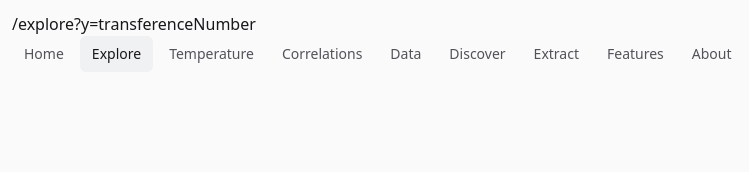
Scenario: Nav › actually restores the remembered view when the nav link is followed back — the bug's own repro
Click the link "Temperature". click: (212, 54)
box: left=169, top=44, right=254, bottom=63
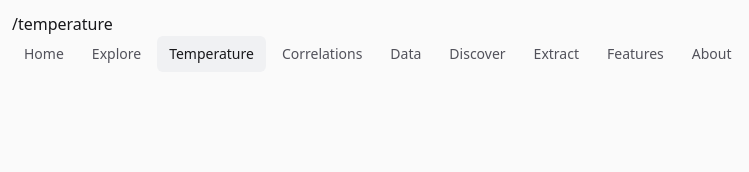
Click the link "Explore". click: (116, 54)
box: left=92, top=44, right=141, bottom=63
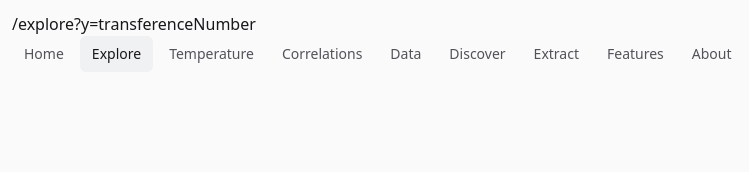
Check: the text with test id "current-location" reads "/explore?y=transferenceNumber", box left=12, top=13, right=256, bottom=35
